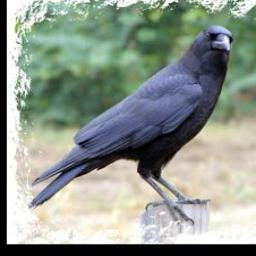Crow: (25, 23, 239, 229)
